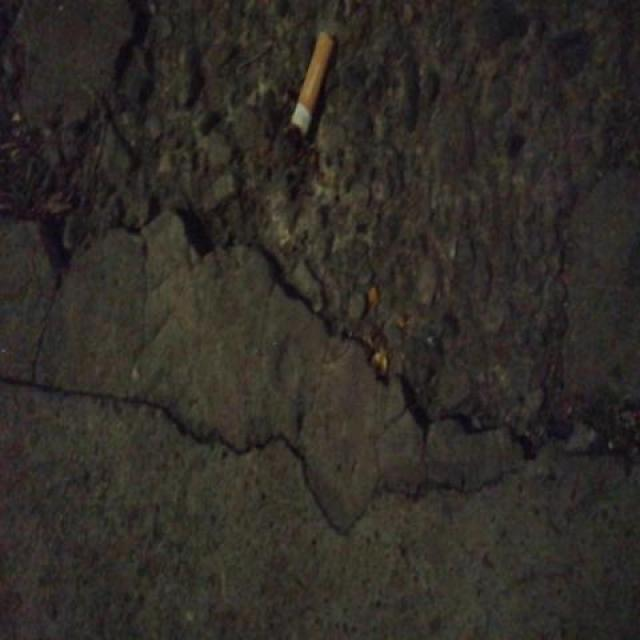non-organic waste: (286, 26, 339, 142)
